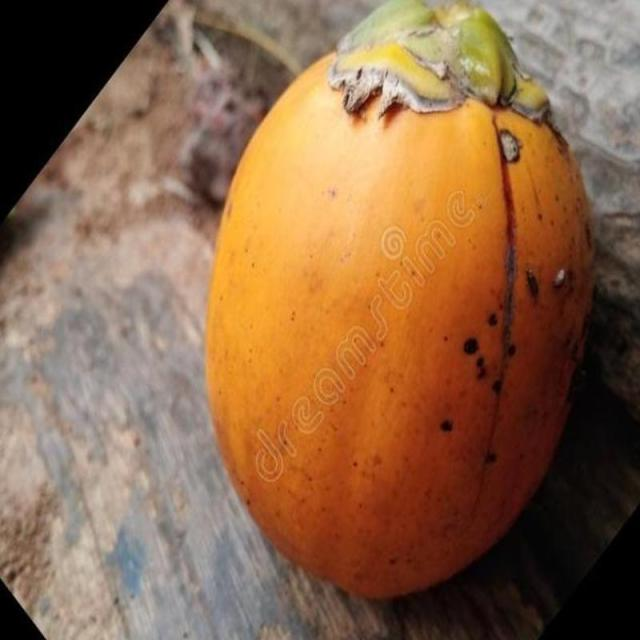good: (202, 0, 598, 605)
